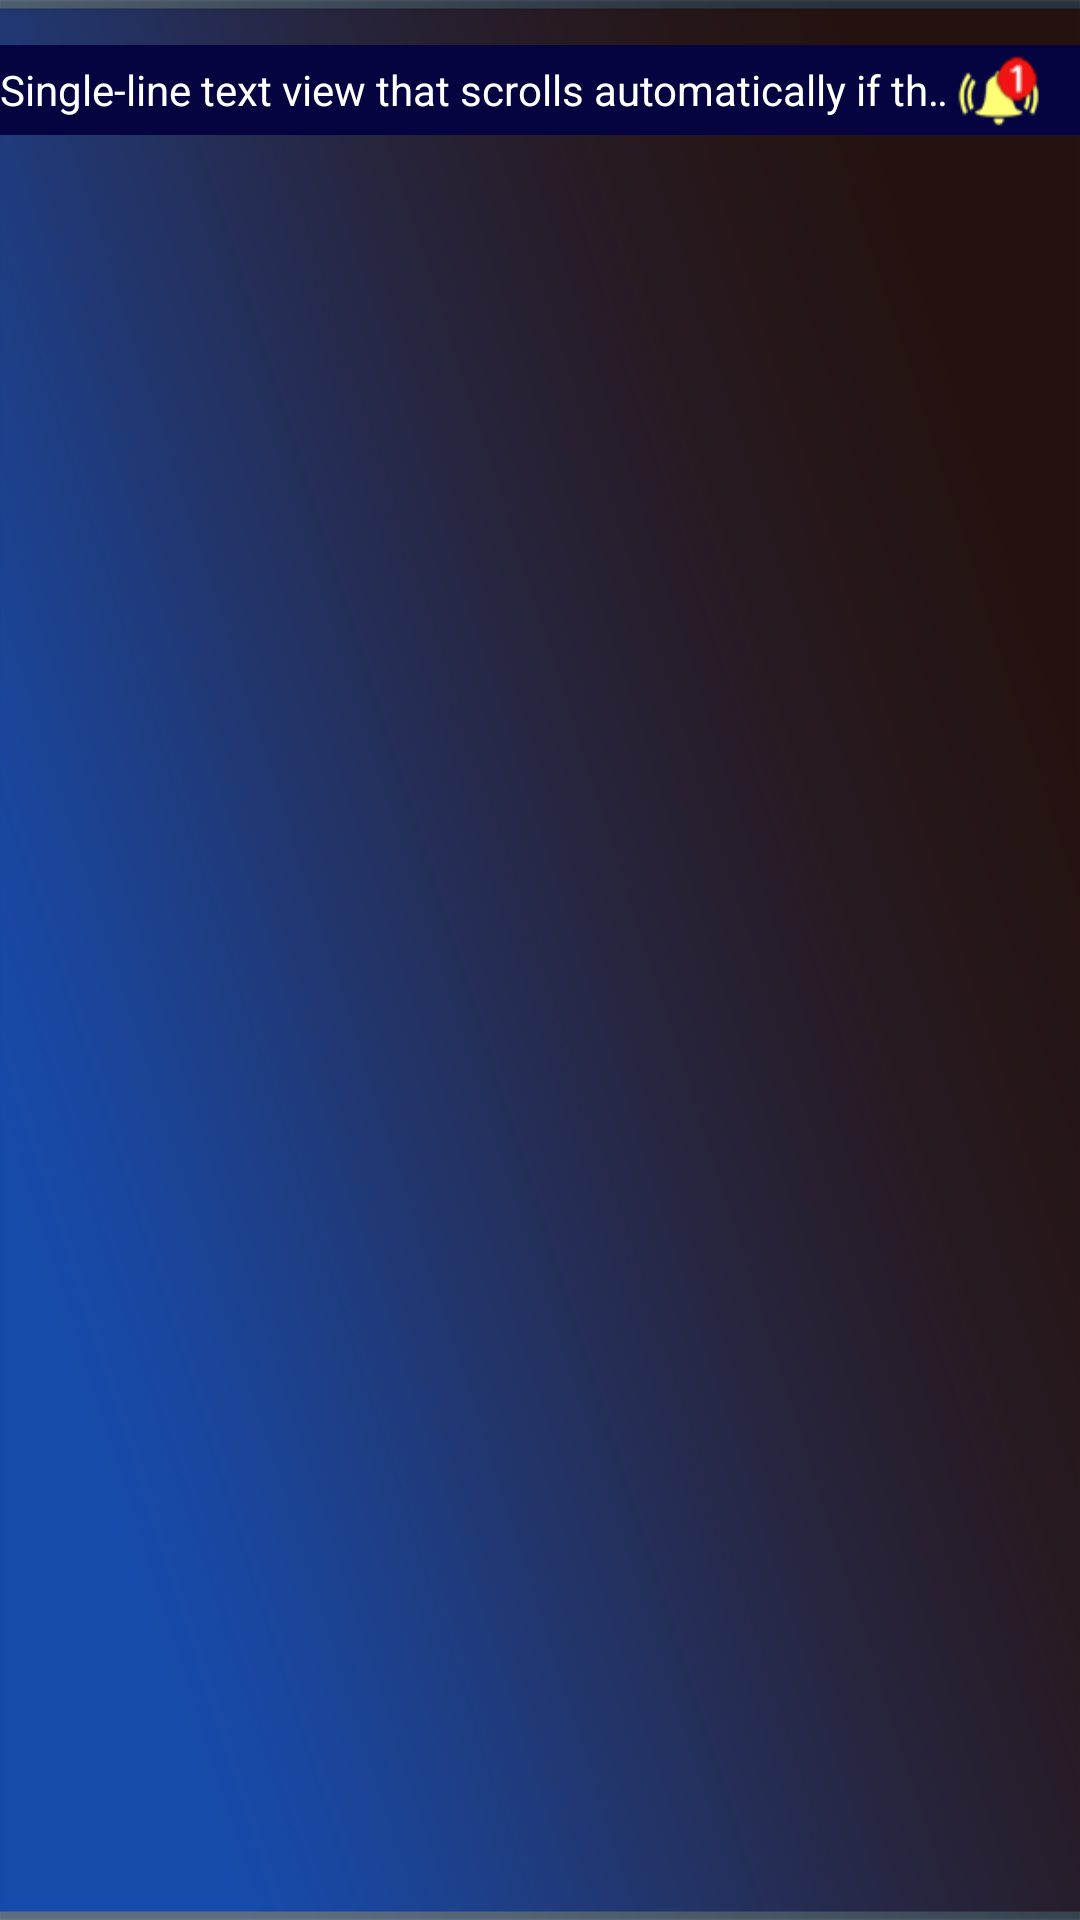

Icon bounding boxes for this 1080px x 1920px phone screenshot, format (x1, y1, x2, y2):
noti: (958, 56, 1039, 126)
